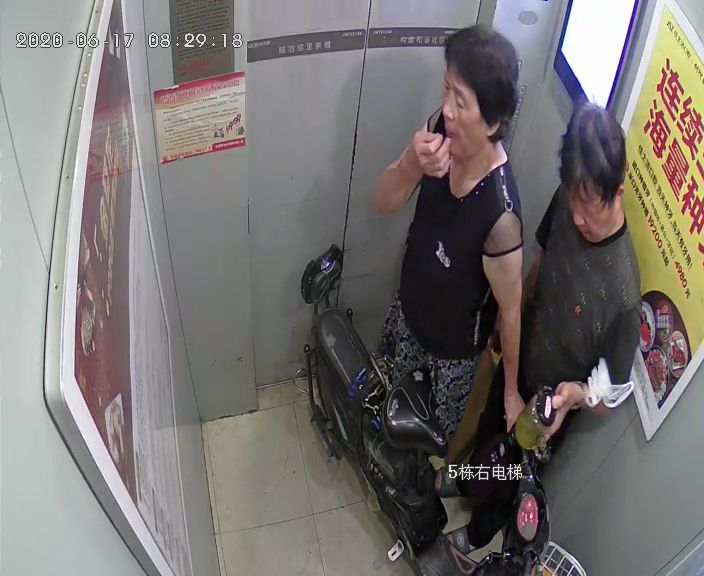Electric-bicycle: (299, 242, 585, 575)
